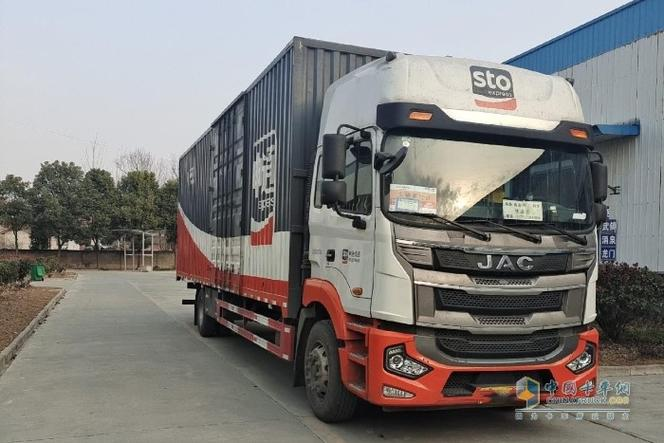卡车: (149, 34, 618, 429)
